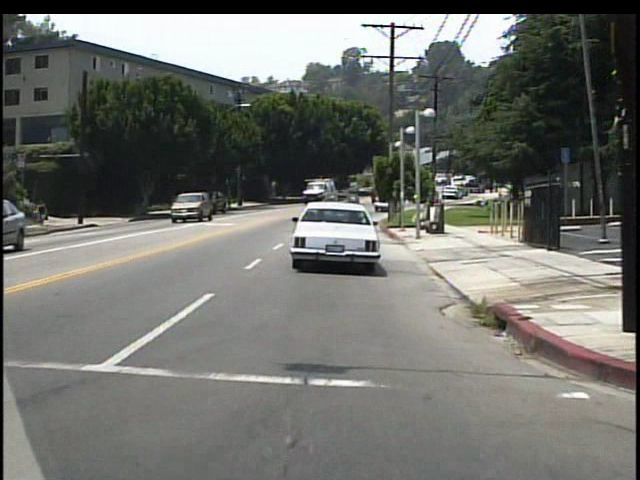person: (41, 198, 50, 227)
